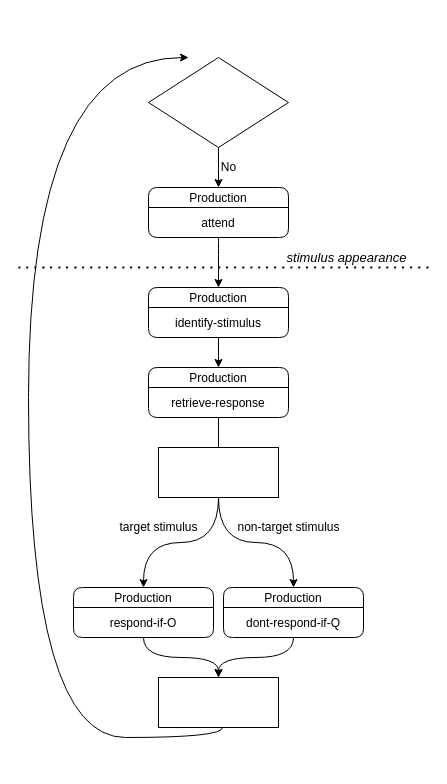
This 447x784 diagram has some shape labels left out. Here are the shapes that lost their labels. From the top down, the centre of each, then its label:
At pixel 218 102: "Attend utility < Wander utility".
At pixel 218 472: "Positive Reward (to attend)".
At pixel 218 702: "Negative Reward (to attend)".
